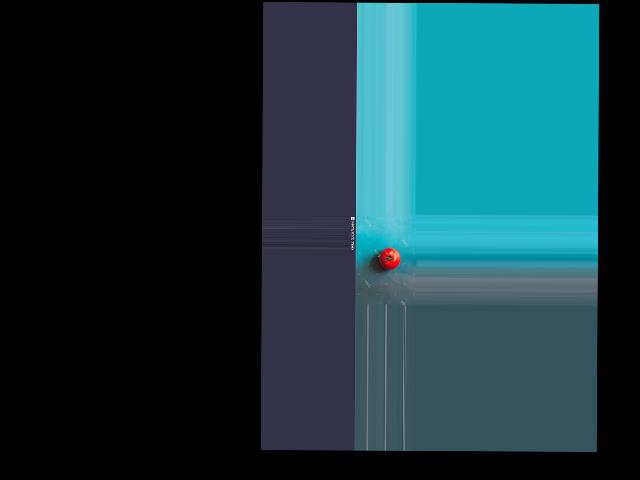tomato: (378, 248, 400, 269)
